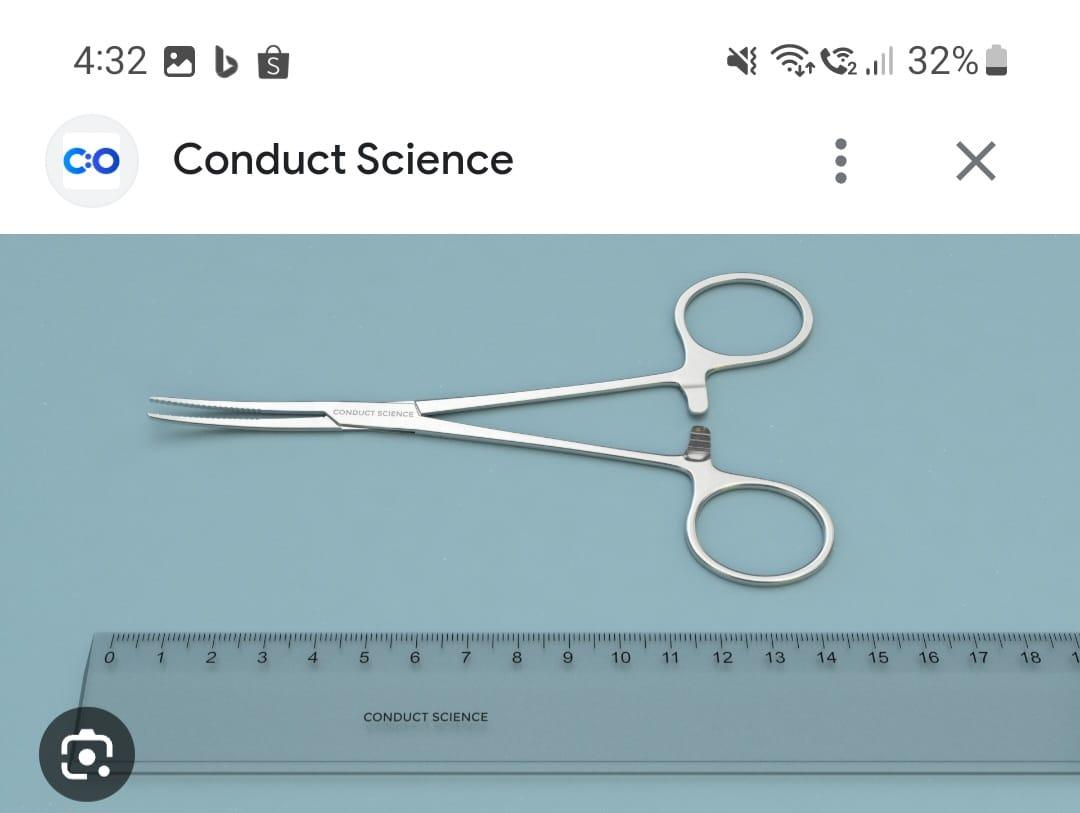Artery Forceps: (145, 266, 852, 599)
